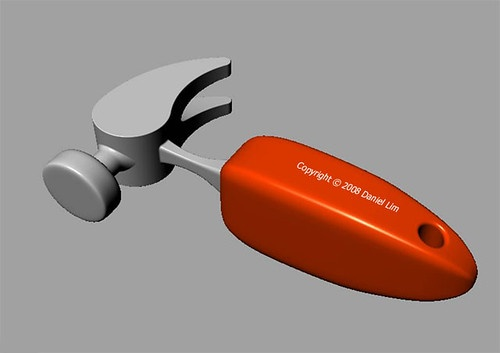hammer: (41, 54, 479, 304)
